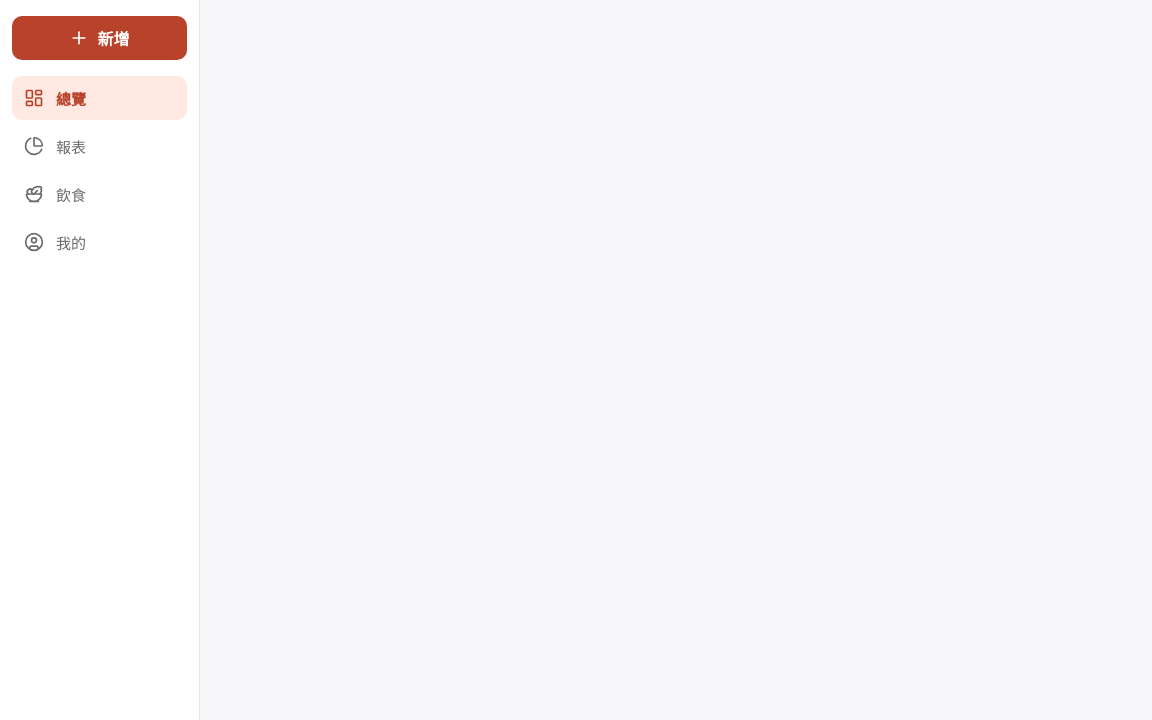
Test: SideNav › 選單裡有「記運動」，連到 /exercises/new；點了選單關掉
This screenshot has width=1152, height=720.
Click the button with aria-label "新增紀錄": (100, 38) [12, 16, 187, 60]
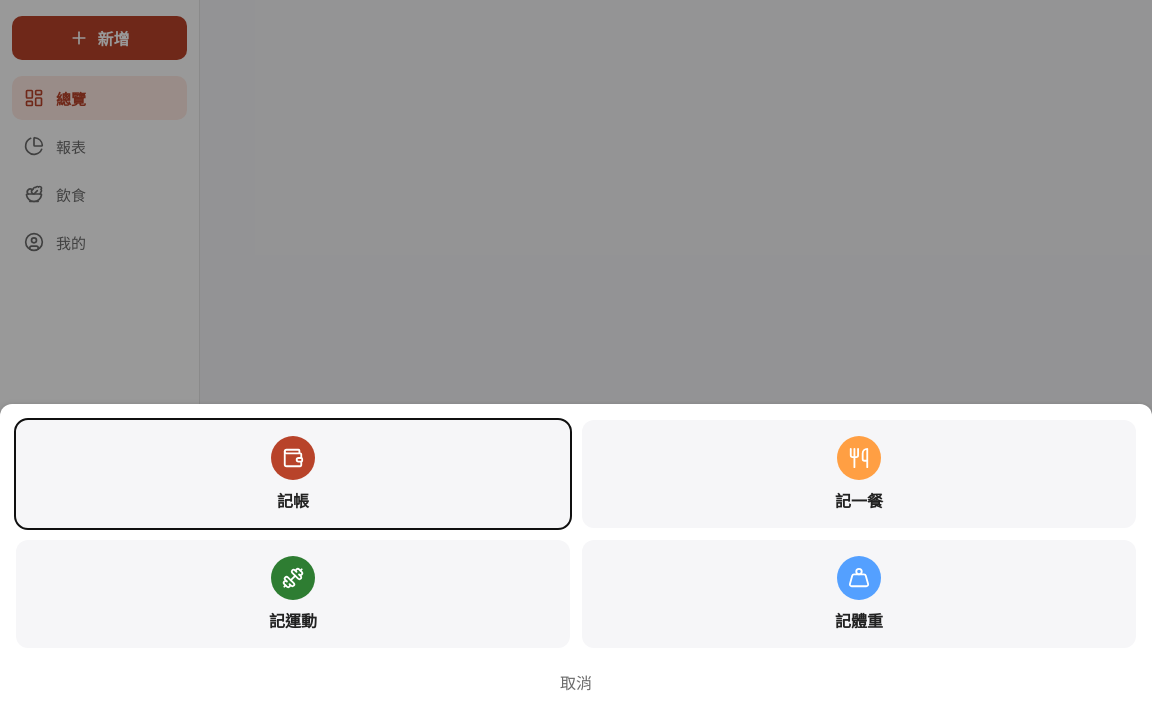
Click the link "記運動": (293, 594) [16, 540, 570, 648]
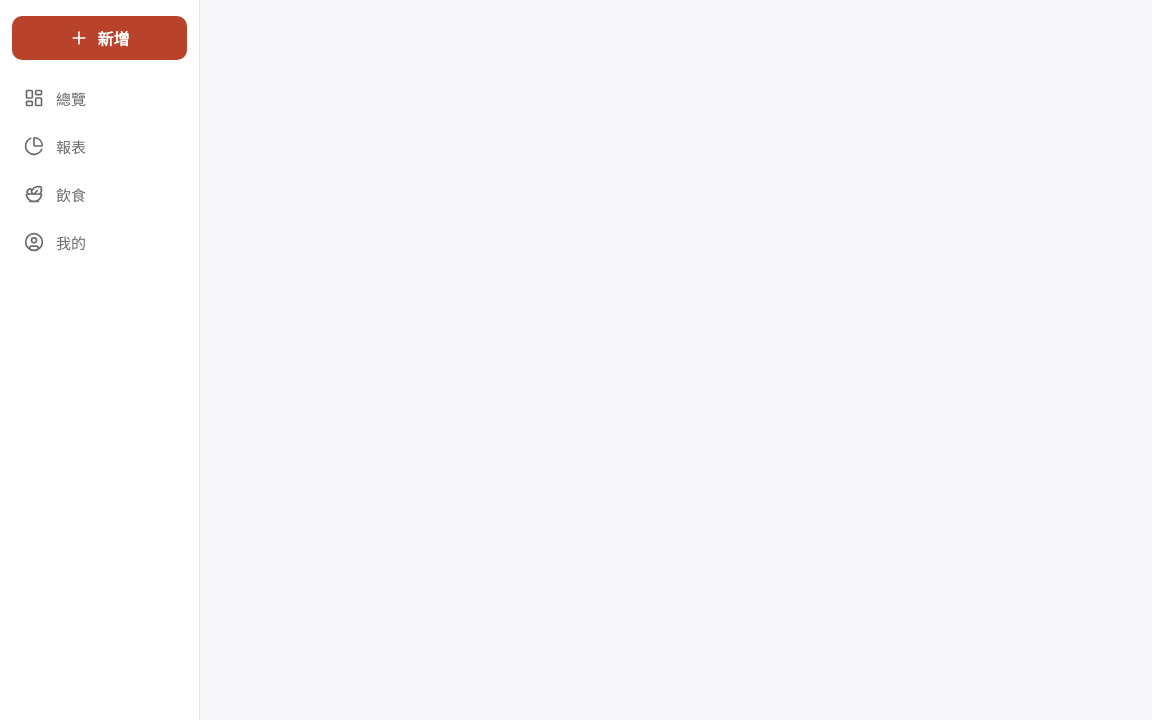
Expected: the dialog is gone
